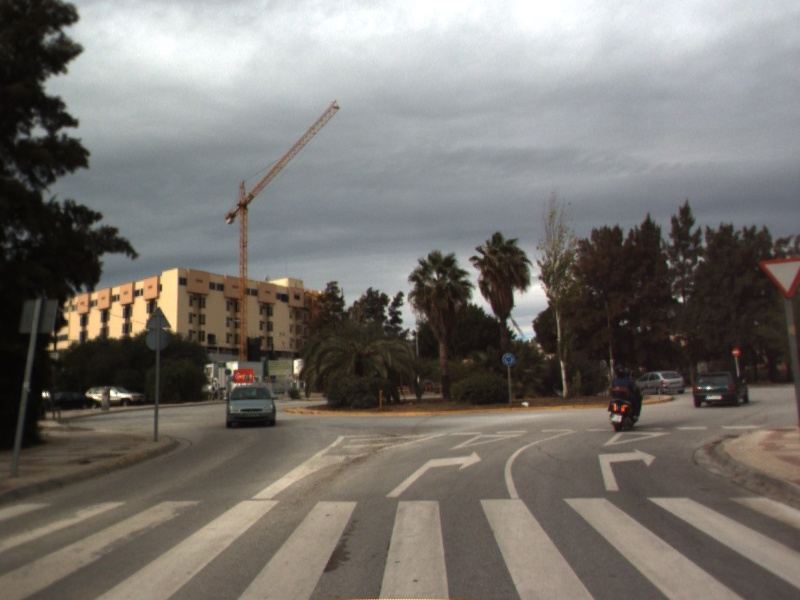RIGHT: (383, 449, 484, 499), (596, 446, 658, 493)
